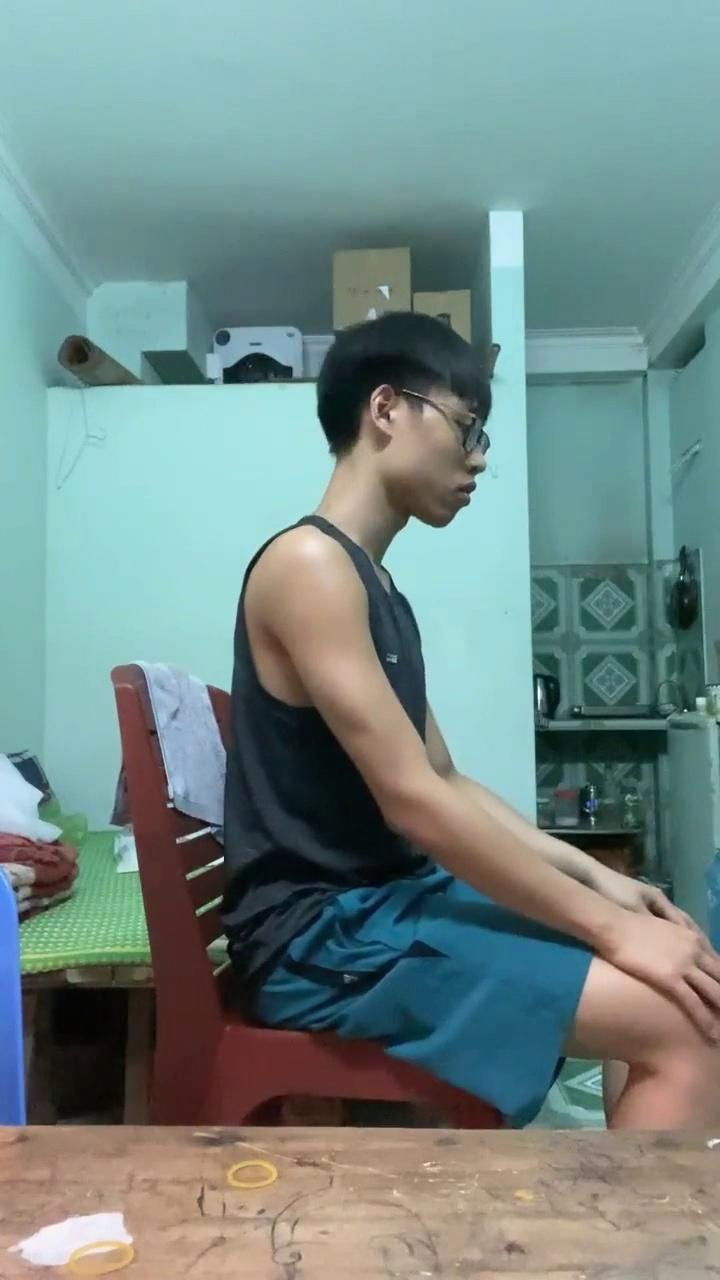GoodPosture: (223, 312, 719, 1130)
